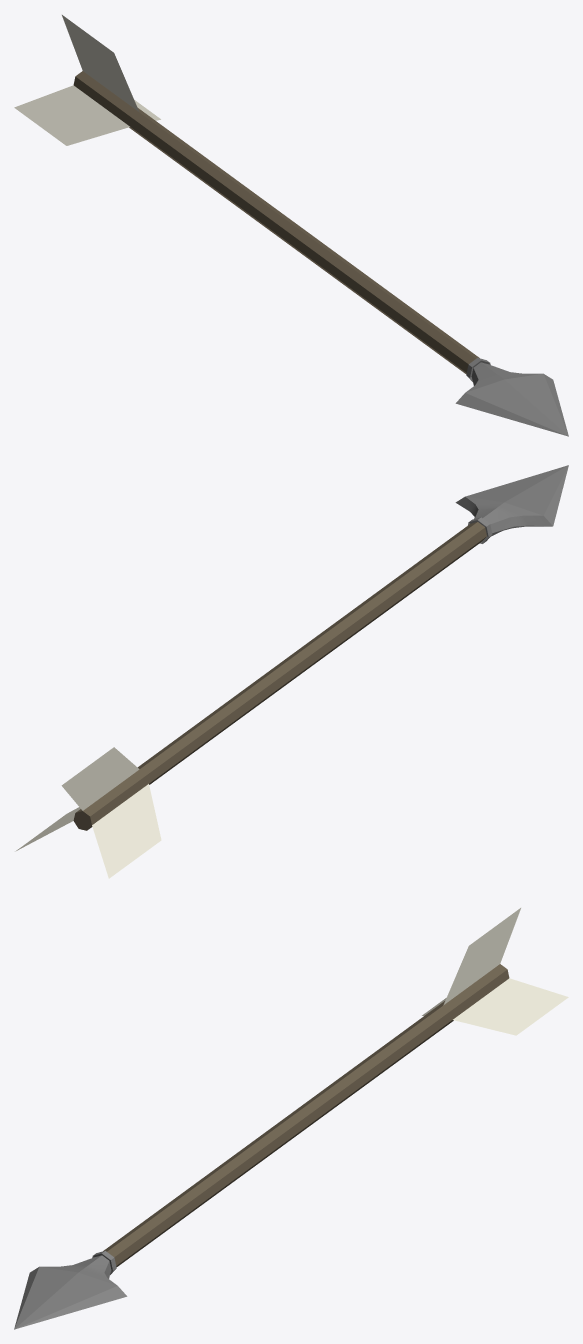
The model's file is Arrow.fbx.
The picture shows the model from 3 angles, top to bottom: view 1: azimuth 30°, elevation 25°; view 2: azimuth 150°, elevation 25°; view 3: azimuth 330°, elevation 25°; orthographic projection.
Parts seen in each view (by area): view 1: Flecha; view 2: Flecha; view 3: Flecha.
Part boxes in pixels (x1,y1,x2,y2): Flecha: (14,15,568,436); Flecha: (15,465,568,878); Flecha: (14,908,568,1329).
Bounding box in the file's own units: 8.45 × 6.75 × 75.97.
